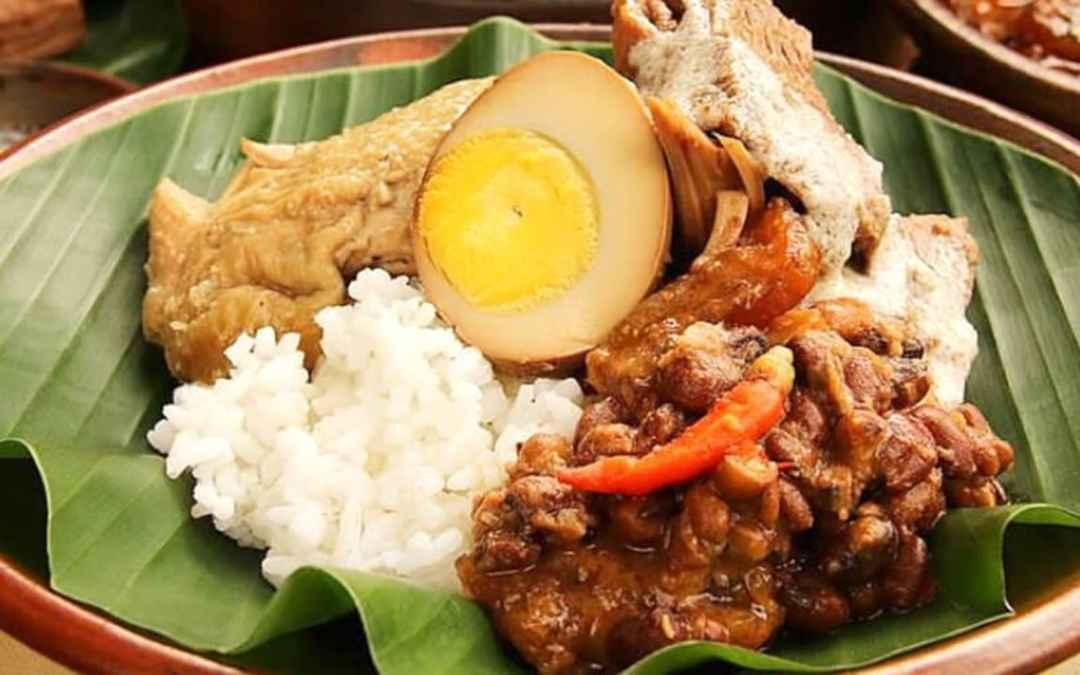gudeg: (147, 3, 1014, 675)
